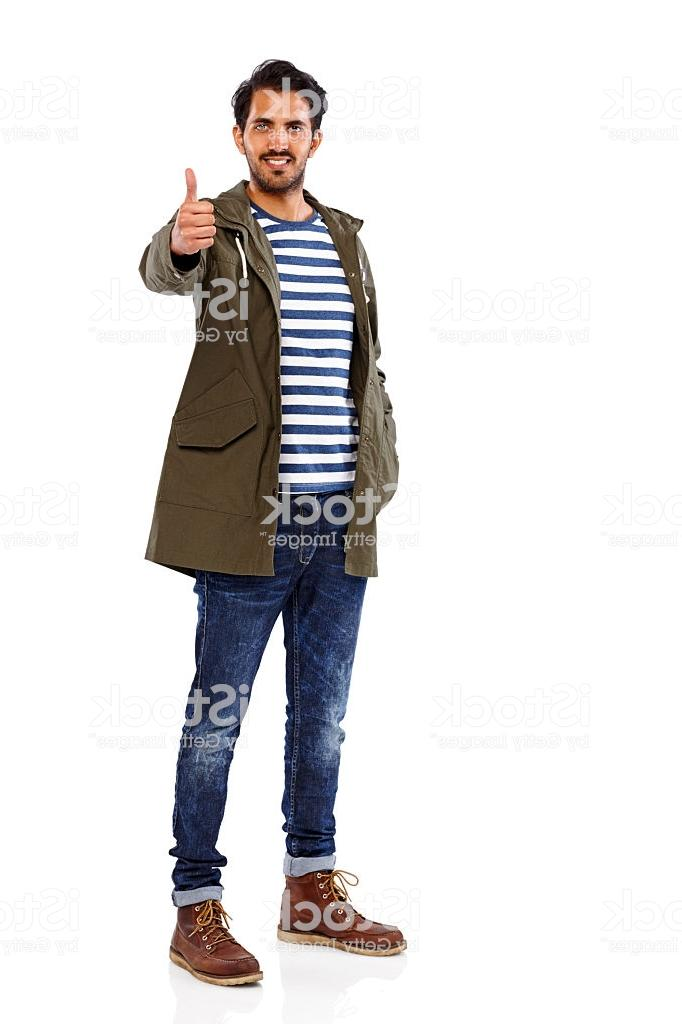thumbsup: (172, 166, 218, 255)
